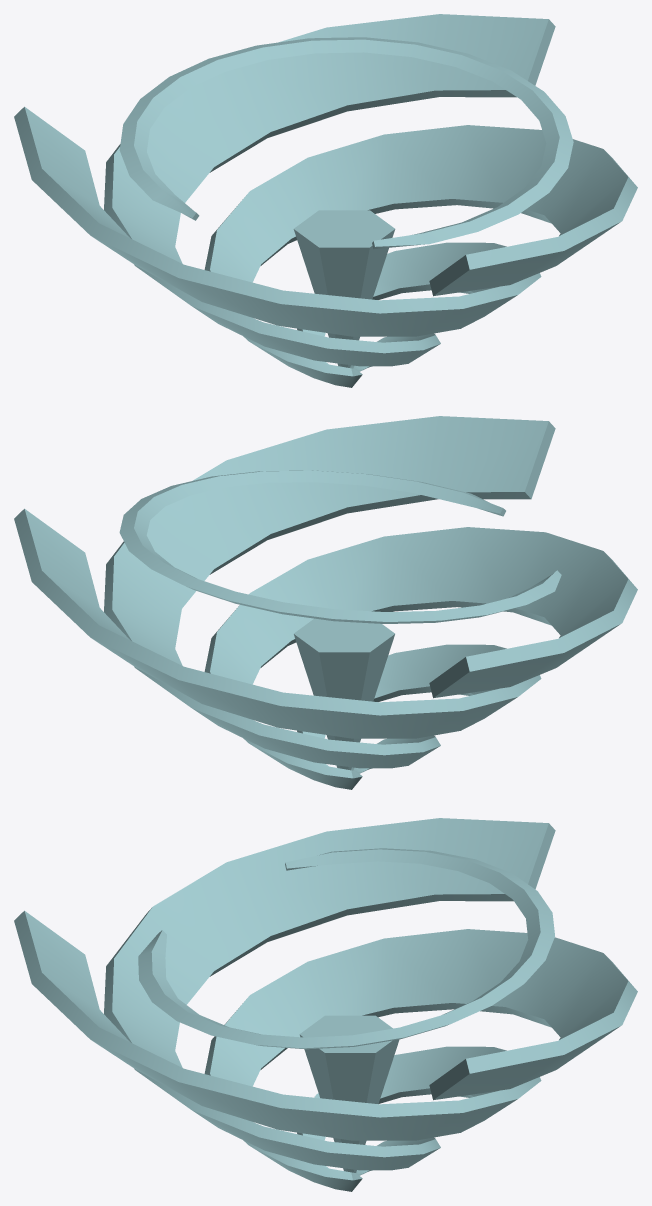
The model's file is vey_tail.fbx.
3 views of the same model, one above another, from view 1: azimuth 30°, elevation 25°; view 2: azimuth 150°, elevation 25°; view 3: azimuth 270°, elevation 25° (orthographic).
Parts seen in each view (by area): view 1: vey_tail; view 2: vey_tail; view 3: vey_tail.
Boxes of the visible parts, bbox=[...] form: vey_tail: bbox=[14, 14, 637, 387]; vey_tail: bbox=[14, 416, 637, 789]; vey_tail: bbox=[14, 818, 637, 1191].
Bounding box in the file's own units: 1.58 × 0.7212 × 1.59.
